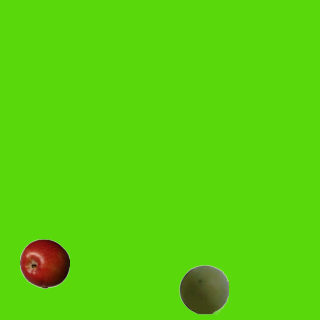Apple Braeburn: (19, 238, 69, 288)
Grape White 4: (178, 264, 228, 314)
